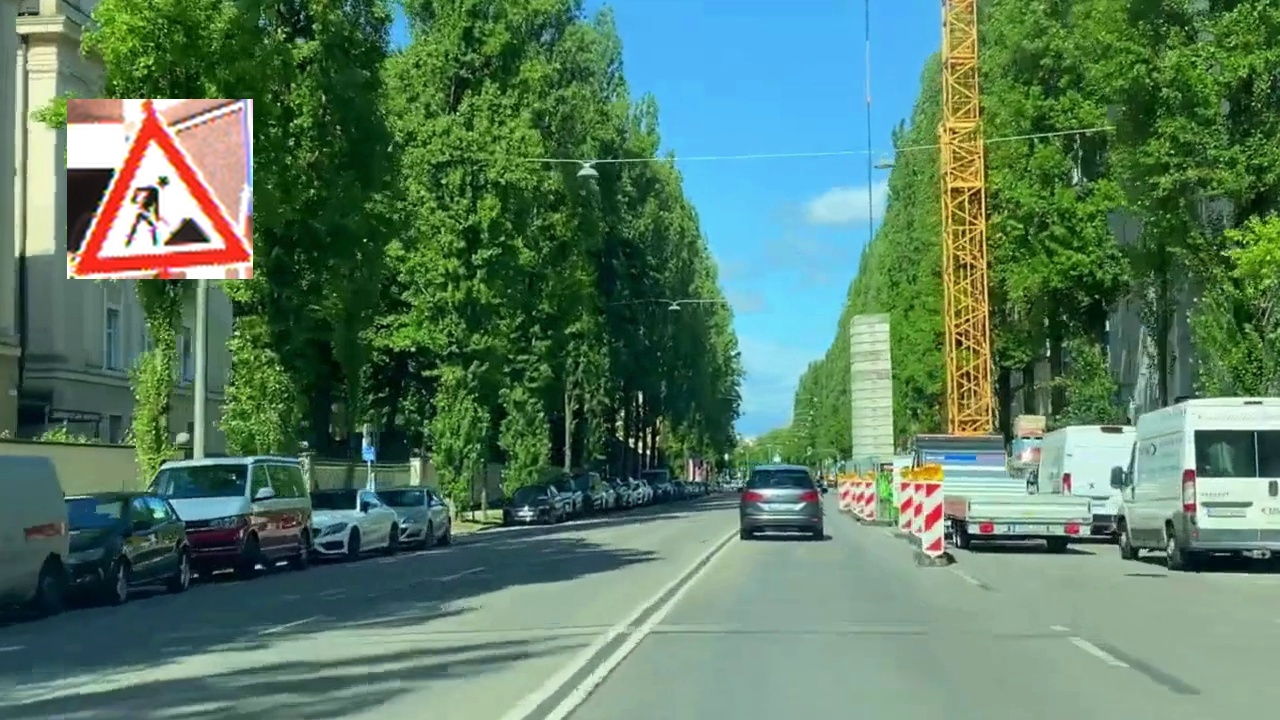Road work: (67, 99, 253, 279)
